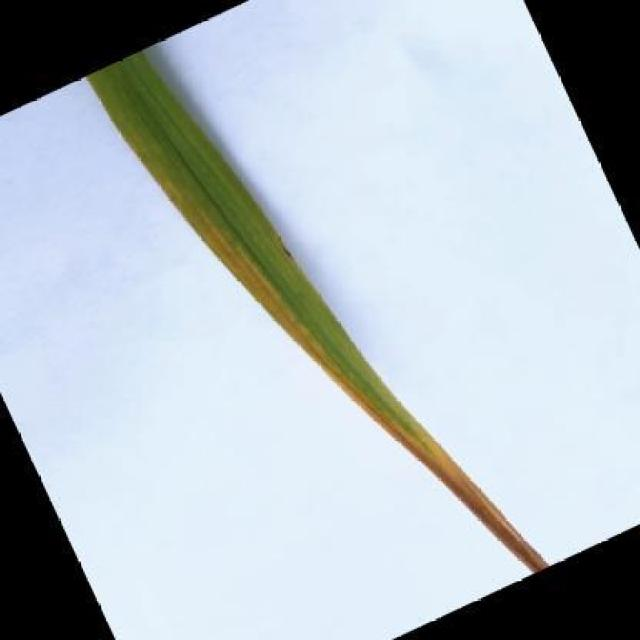Rice False Smut: (86, 0, 557, 640)
